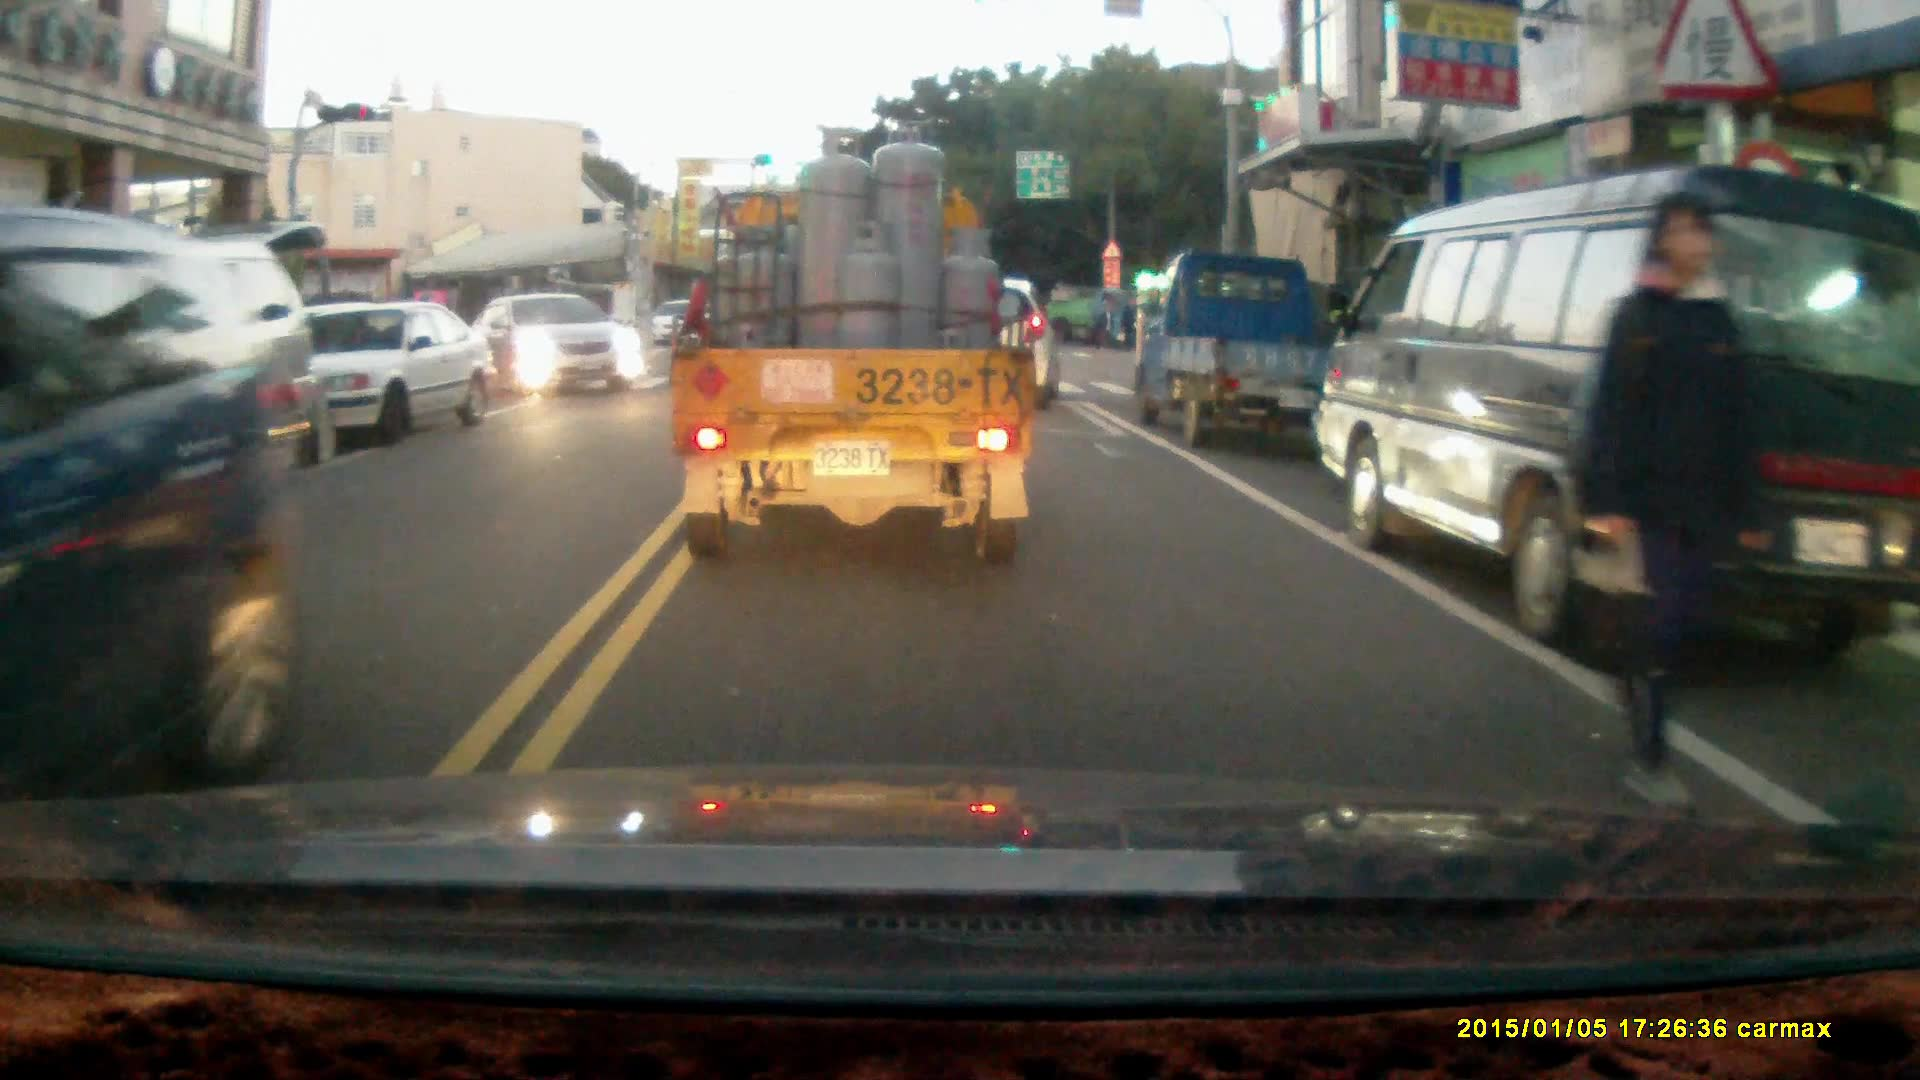pedestrian: (1589, 195, 1772, 806)
vehicle: (1312, 161, 1906, 668), (1, 232, 305, 832), (672, 123, 1042, 568), (1132, 245, 1342, 444), (251, 299, 501, 457), (893, 268, 1064, 409), (479, 291, 645, 399)
